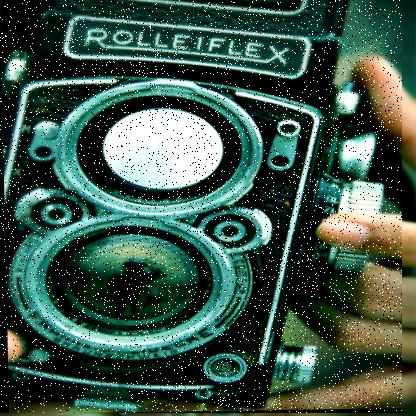Camera: (1, 1, 404, 415)
